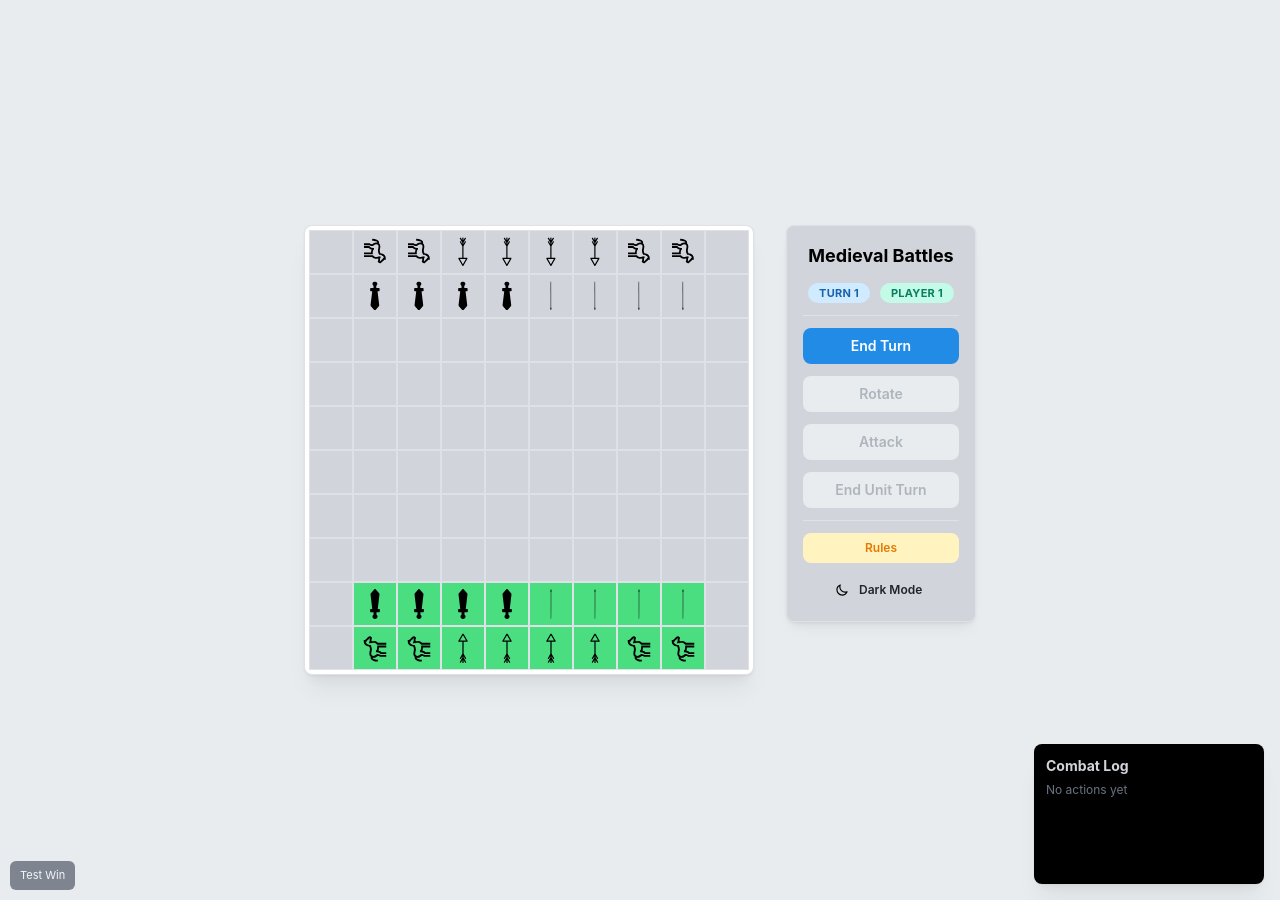
Test case: App smoke tests › End Turn advances turn counter and switches player
Click the button "End Turn": click(881, 346) [803, 328, 959, 364]
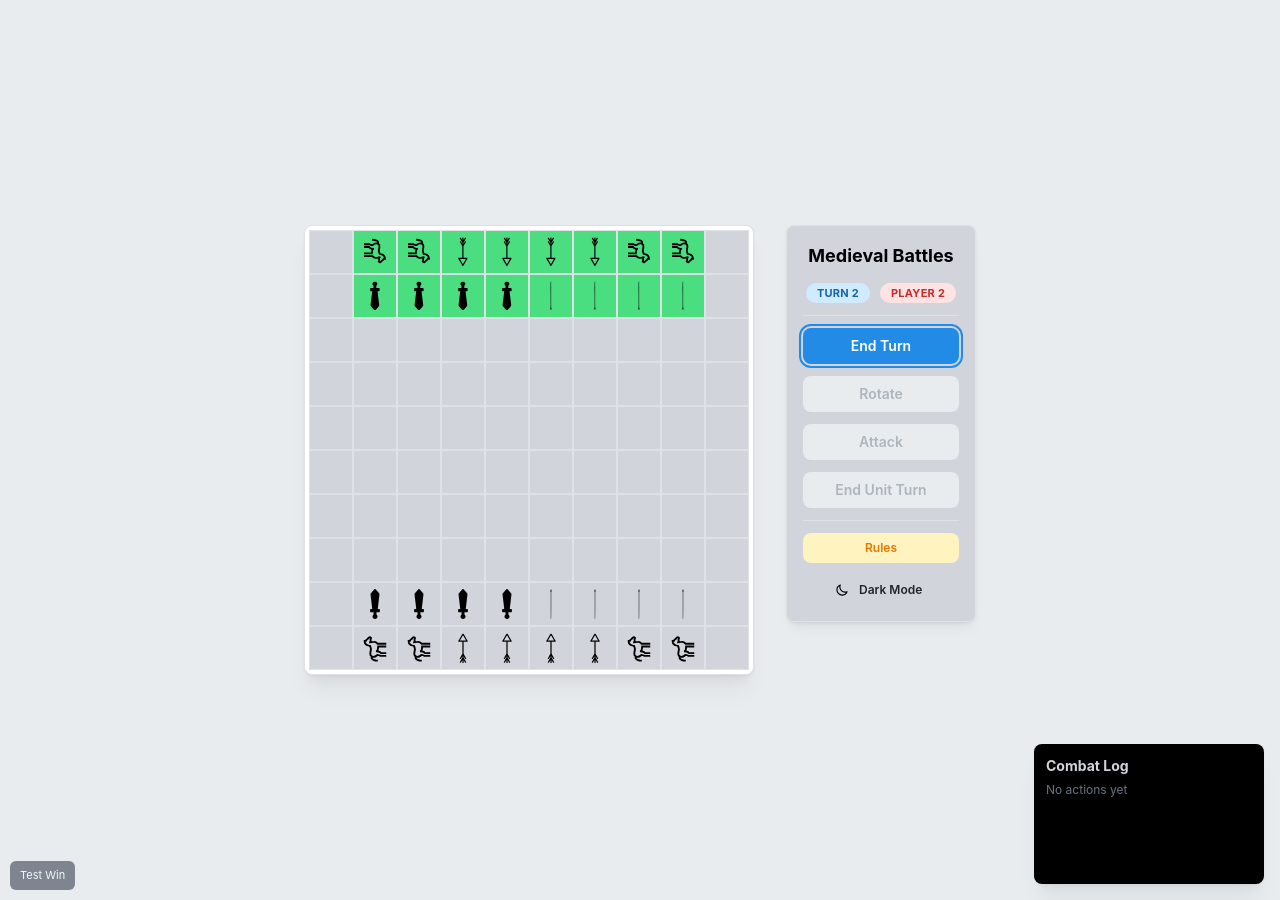
Expected: the text "Turn 2" is shown, [817, 284, 859, 302]
Expected: the text "Player 2" is shown, [891, 284, 945, 302]
